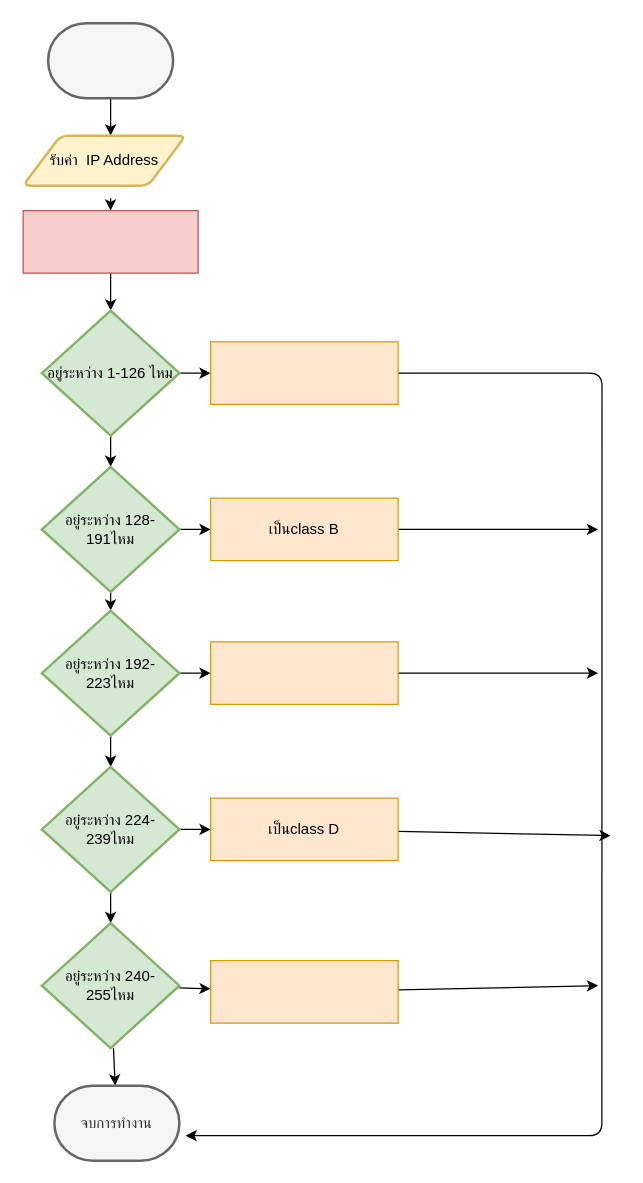
This 643x1183 diagram has some shape labels left out. The centre of each missing label's shape, as x and y in pixels:
"start" belongs at [110,60].
"อ่าน octet แรก" belongs at [110,241].
"เป็นclass A" belongs at [303,372].
"เป็นclass C" belongs at [303,672].
"เป็นclass E" belongs at [303,991].
